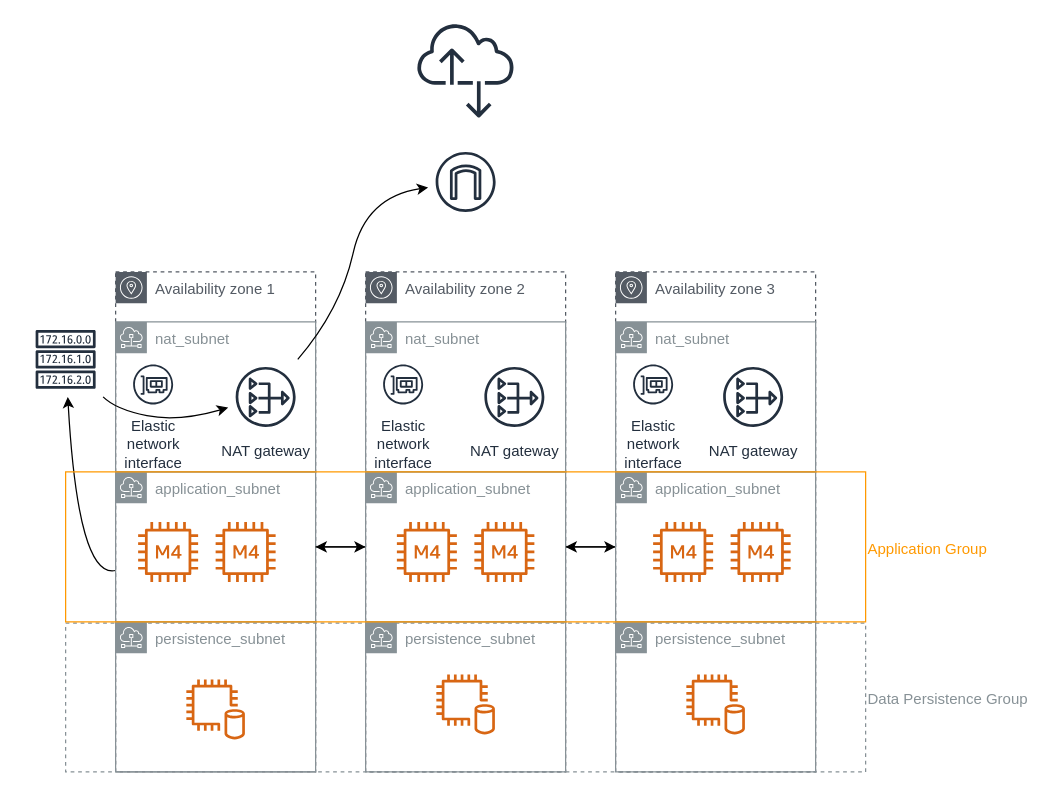
The diagram is 1050 pixels wide and 806 high, and some of its shapes have lost their labels. Each missing label, with the centre of its shape:
"Internet" goes at [465,70].
"Internet gateway" goes at [465,181].
"Route Tables" goes at [65,359].
